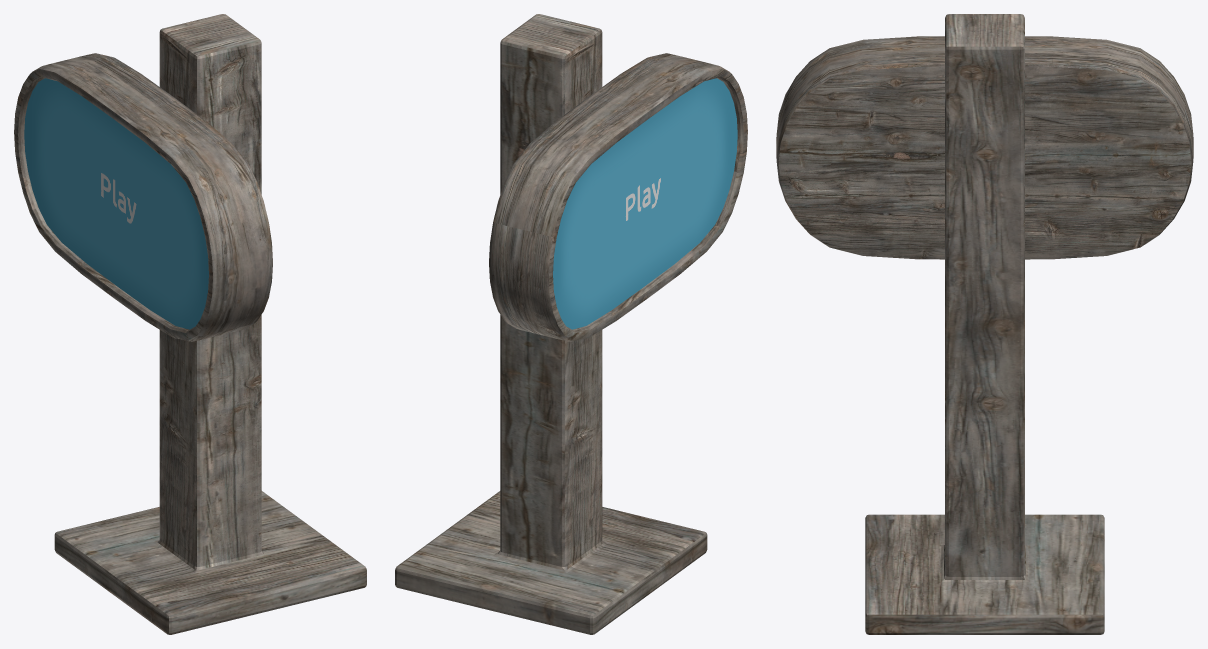
Rendered from Play3D.glb.
3 views of the same model, side by side, from view 1: azimuth 30°, elevation 25°; view 2: azimuth 150°, elevation 25°; view 3: azimuth 270°, elevation 25° (orthographic). The views are drawn at different scales.
Parts seen in each view (by area): view 1: Cube, StartMesh, Cylinder.004; view 2: Cube, StartMesh, Cylinder.004; view 3: Cube, Cylinder.004.
Part boxes in pixels (left/top/right/bottom): Cube: left=54, top=14, right=366, bottom=634; StartMesh: left=24, top=78, right=208, bottom=329; Cylinder.004: left=14, top=53, right=272, bottom=341; Cube: left=395, top=14, right=707, bottom=634; StartMesh: left=553, top=78, right=737, bottom=329; Cylinder.004: left=489, top=53, right=747, bottom=341; Cube: left=865, top=14, right=1104, bottom=634; Cylinder.004: left=776, top=36, right=1193, bottom=259.
Size of the model in its own units: 0.6001 by 1.54 by 1.05.
Materials: 3 (3 with a texture image).
